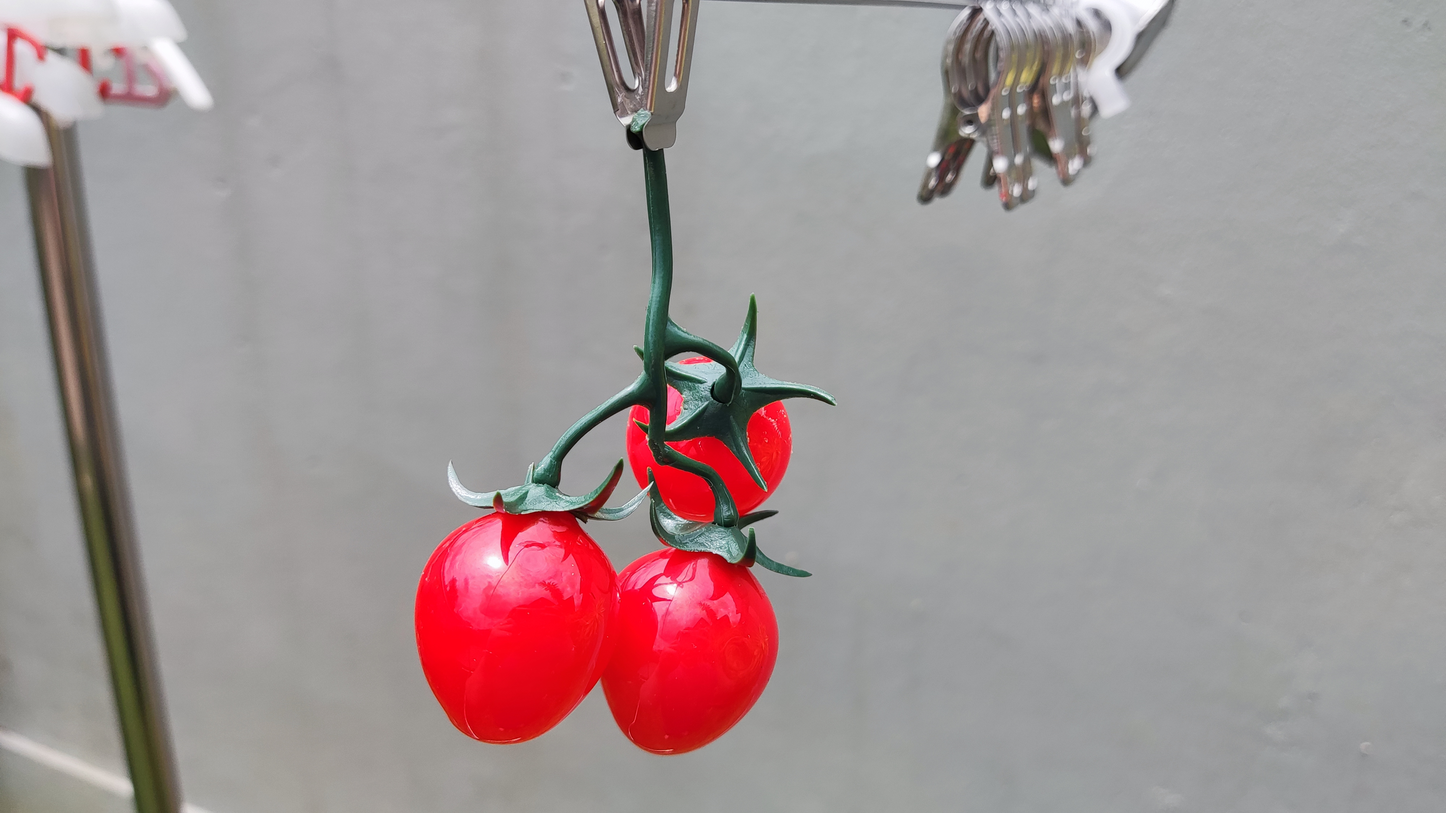peduncle: (643, 152, 673, 312)
strawberry: (414, 511, 616, 743), (602, 547, 779, 755), (668, 401, 792, 515), (626, 405, 715, 521), (667, 385, 683, 423)
